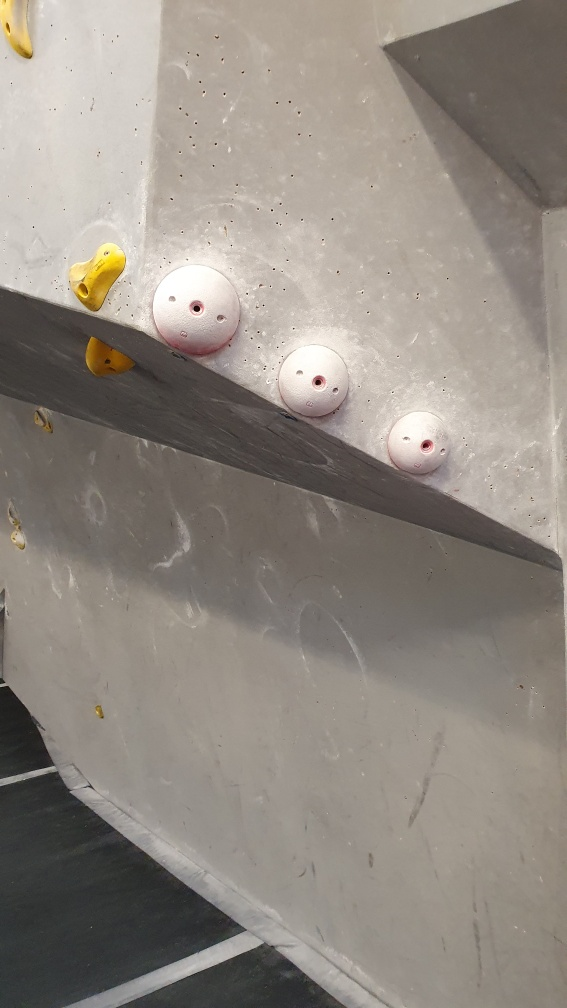Sloper: (149, 262, 246, 357), (276, 340, 352, 423), (384, 409, 459, 477)
